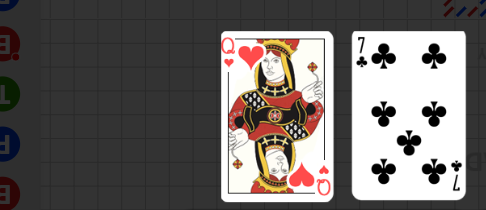7C: (449, 158, 463, 193)
9H: (221, 35, 236, 69)
